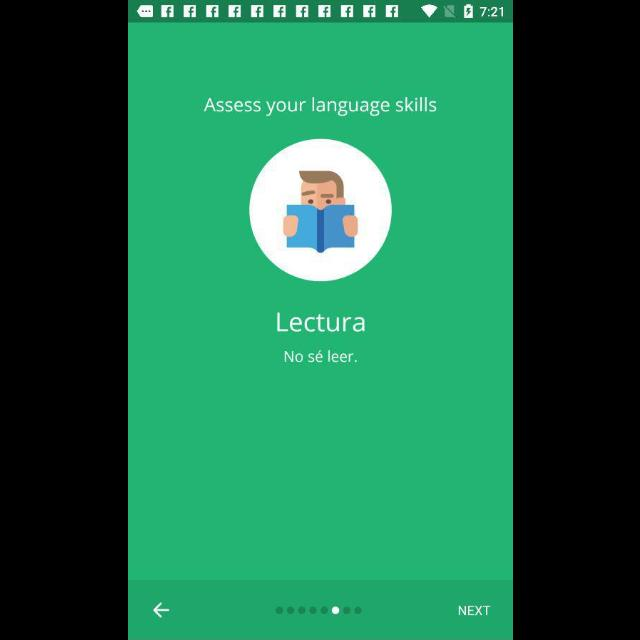icon: (153, 602, 169, 618)
image: (250, 139, 390, 281)
pageindicator: (274, 605, 362, 615)
text: (204, 98, 436, 116), (276, 313, 364, 333), (283, 351, 357, 363), (456, 606, 489, 616)
uppertaskbar: (128, 1, 512, 23)
